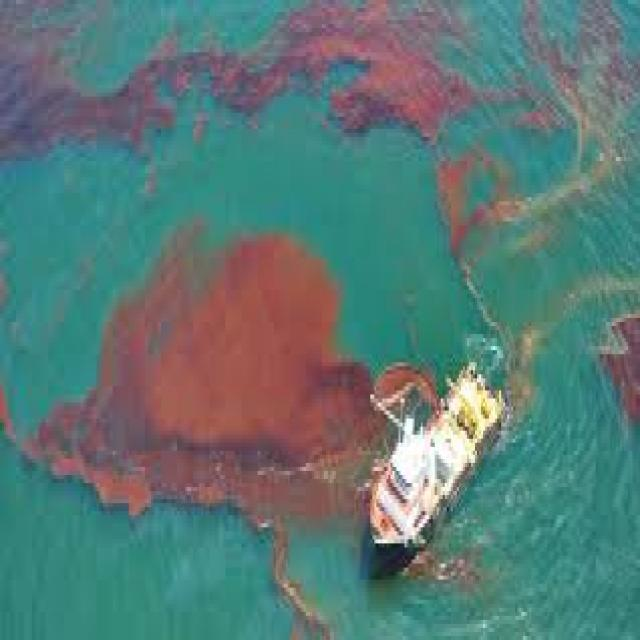truecolor: (50, 233, 378, 521), (1, 0, 479, 159)
